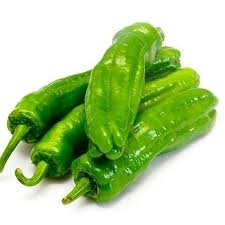Pepper: (80, 22, 164, 163)
